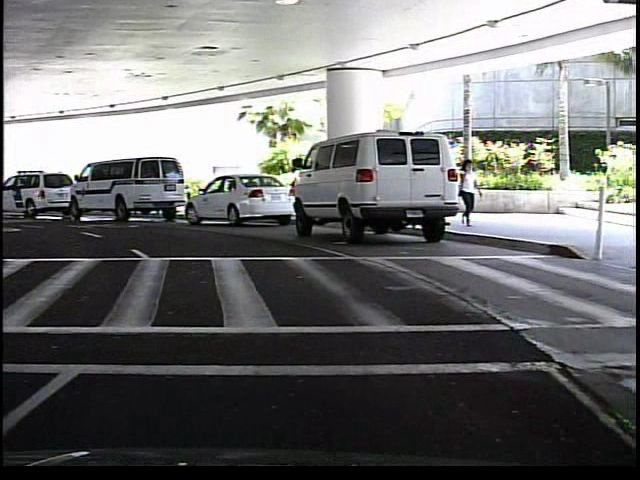person: (457, 154, 482, 226)
